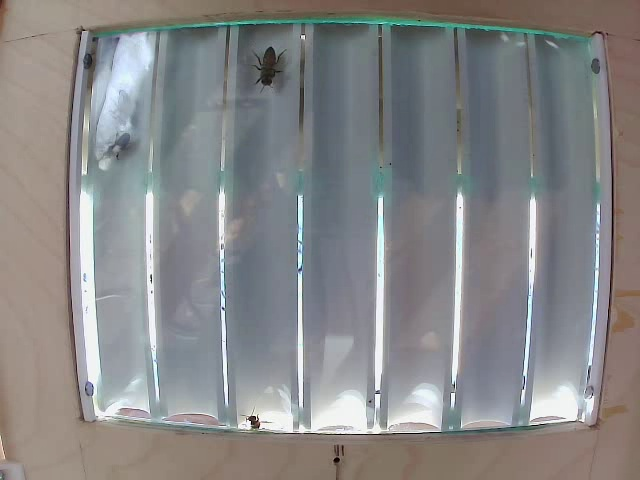bee: (246, 35, 300, 94)
